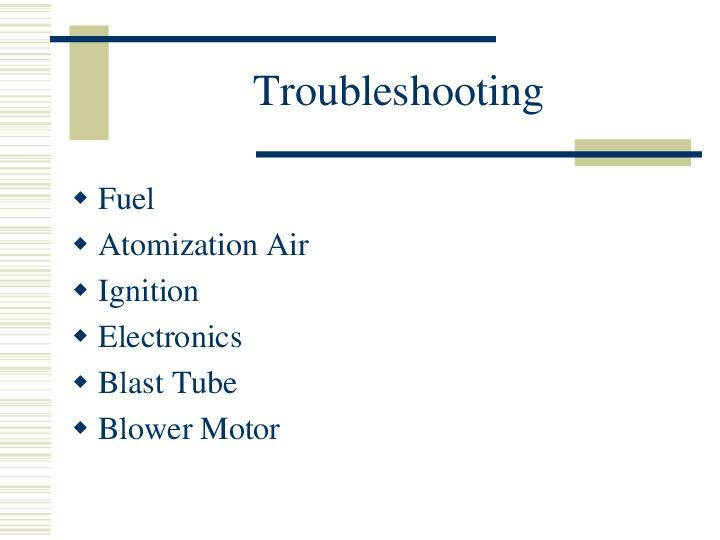subtitle: (64, 177, 362, 470)
title: (252, 54, 570, 118)
